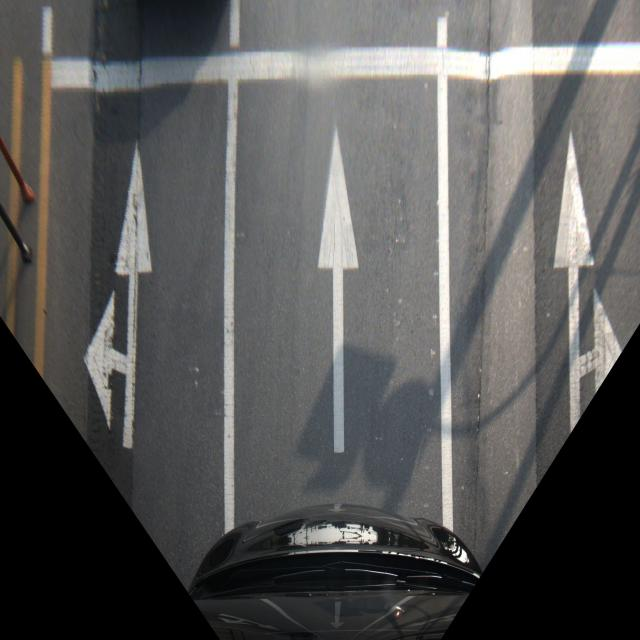forward_left: (49, 93, 242, 445)
